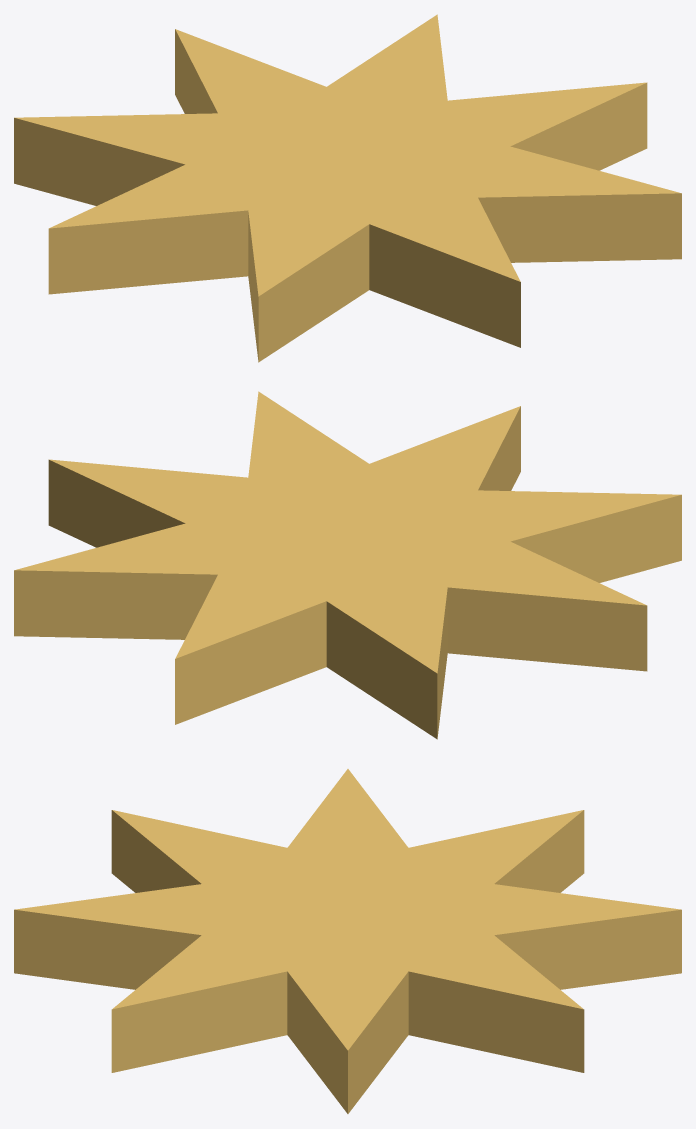
Rendered from tabletop-game-components-damage-burst-aebeb54d__20881.glb.
3 renders of one model, top to bottom at view 1: azimuth 30°, elevation 25°; view 2: azimuth 150°, elevation 25°; view 3: azimuth 270°, elevation 25°, orthographic. The views are drawn at different scales.
Visible parts, largest first — view 1: damage-burst; view 2: damage-burst; view 3: damage-burst.
Boxes of the visible parts, x1=… form: damage-burst: x1=14, y1=14, x2=681, y2=362; damage-burst: x1=14, y1=391, x2=681, y2=739; damage-burst: x1=14, y1=769, x2=681, y2=1113.
Size of the model in its own units: 0.038 by 0.004 by 0.038.
